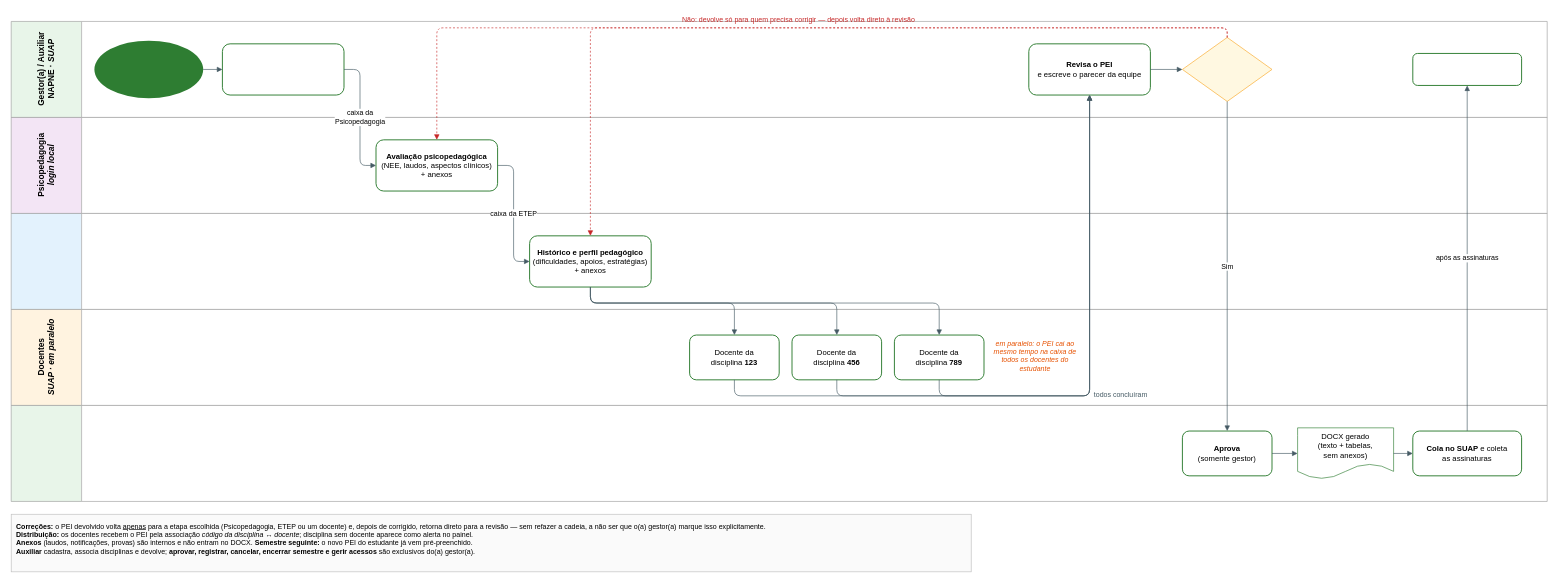
The diagram is 1558 pixels wide and 583 high, and some of its shapes have lost their labels. Here are the shapes that lost their labels. From the top down, the box of each, then its label:
(94, 40, 203, 98): Gestor(a) abre o semestre e associa disciplina ↔ docente
(222, 43, 344, 95): Cadastra estudante e PEI + códigos das disciplinas (gestor ou auxiliar)
(1182, 37, 1272, 101): Está tudo certo?
(1412, 53, 1522, 86): Marca como Registrado
(11, 213, 1547, 309): ETEP SUAP
(11, 405, 1547, 501): Gestor(a) aprovação e SUAP
